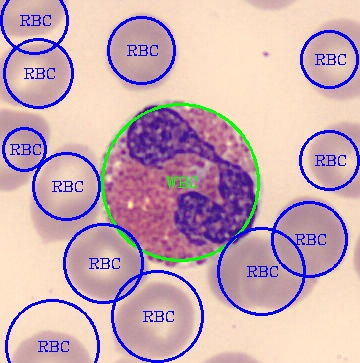RBC: (29, 140, 101, 244), (111, 280, 198, 362), (62, 221, 148, 302), (271, 192, 351, 277), (102, 10, 180, 94), (242, 239, 320, 313), (300, 15, 359, 104), (1, 40, 74, 110), (204, 236, 270, 311), (0, 107, 51, 194), (306, 118, 358, 200)
WBC: (98, 100, 266, 267)
